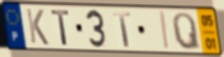3: (85, 8, 107, 49)
I: (159, 10, 171, 51)
K: (25, 7, 51, 47)
Q: (171, 11, 202, 51)
T: (50, 9, 72, 47), (112, 11, 133, 48)
